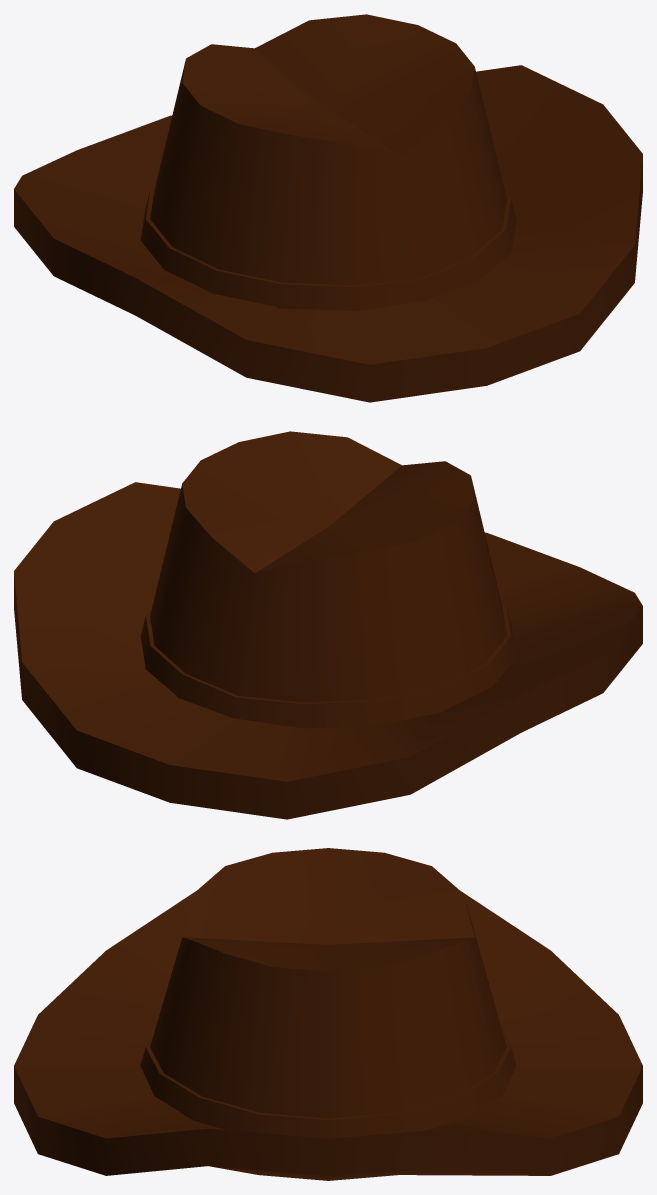
The model's file is ChapeuDeCowboy.fbx.
3 renders of one model, top to bottom at view 1: azimuth 30°, elevation 25°; view 2: azimuth 150°, elevation 25°; view 3: azimuth 270°, elevation 25°, orthographic.
Parts seen in each view (by area): view 1: ChapeuDeCowboy; view 2: ChapeuDeCowboy; view 3: ChapeuDeCowboy.
Boxes of the visible parts, left/top/right/bottom form: ChapeuDeCowboy: left=14, top=14, right=642, bottom=402; ChapeuDeCowboy: left=14, top=431, right=642, bottom=819; ChapeuDeCowboy: left=14, top=848, right=642, bottom=1180.
Size of the model in its own units: 342 by 116 by 342.
